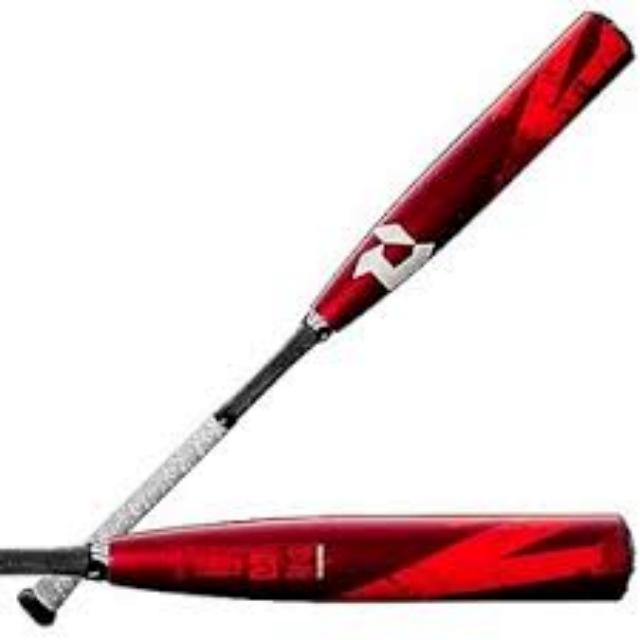baseball bat: (20, 12, 640, 626), (0, 510, 640, 604)
